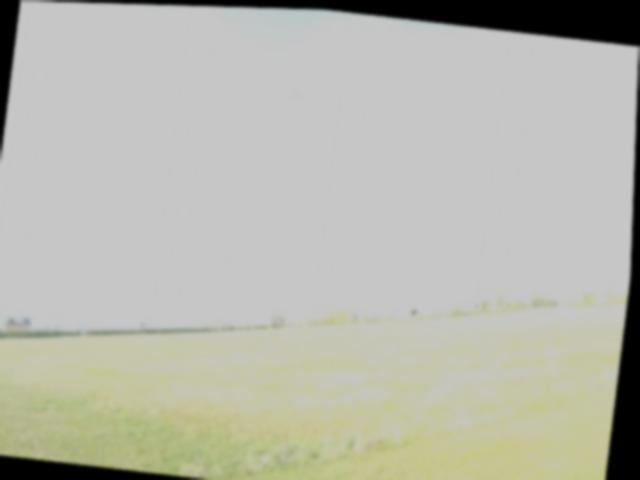iha: (293, 86, 303, 95)
